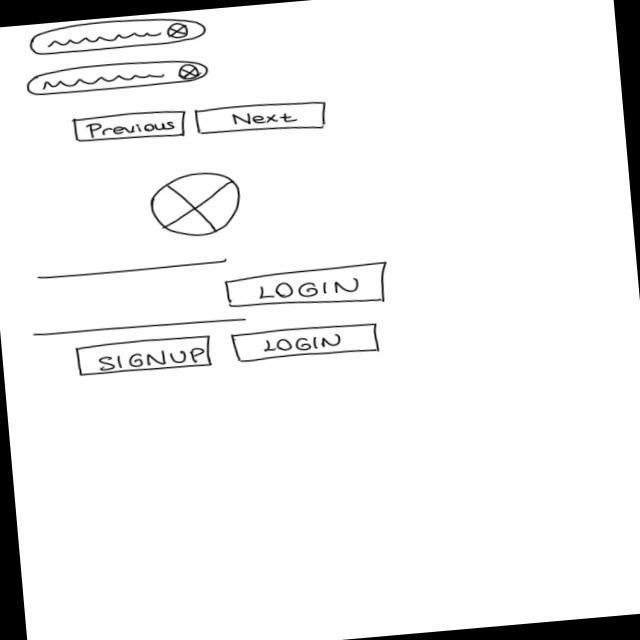button: (222, 259, 394, 317), (231, 317, 385, 366), (74, 332, 218, 380), (194, 97, 330, 141), (71, 105, 192, 148)
image: (145, 167, 247, 242)
label: (403, 1, 464, 6)
